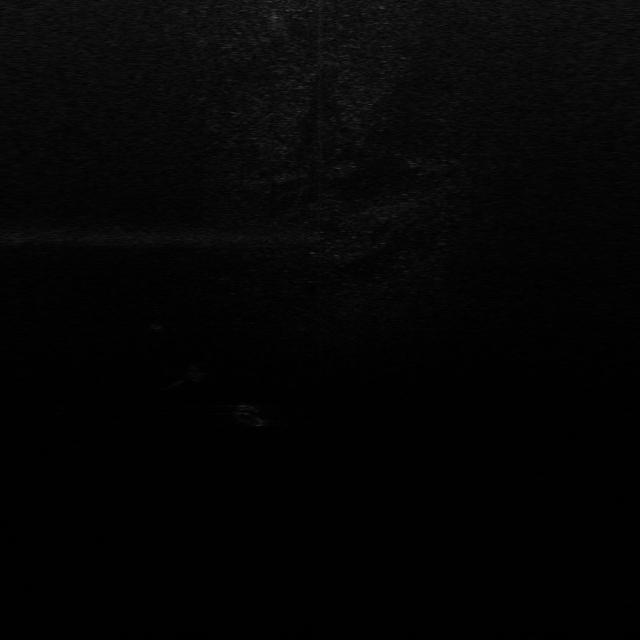ball: (182, 363, 208, 381)
circle cage: (147, 314, 169, 331)
tyre: (231, 404, 273, 428)
